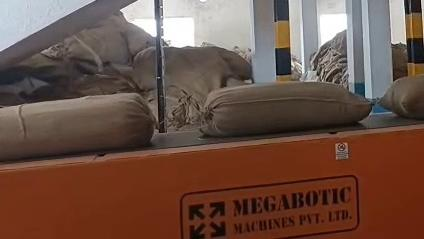box: (0, 93, 154, 161), (202, 82, 371, 137), (379, 74, 424, 119)
